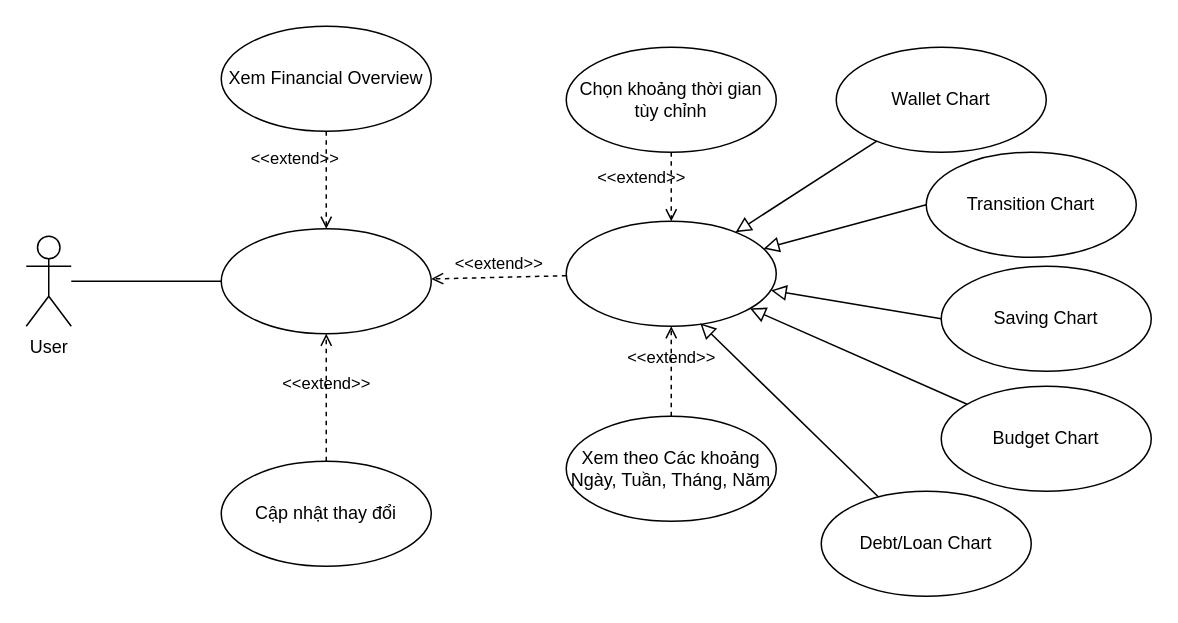
The diagram is 1178 pixels wide and 623 high, and some of its shapes have lost their labels. The centre of each missing label's shape, as x and y in pixels:
"View Chart" belongs at pixel 670 273.
"Xem Thống kê tài chính" belongs at pixel 325 280.
